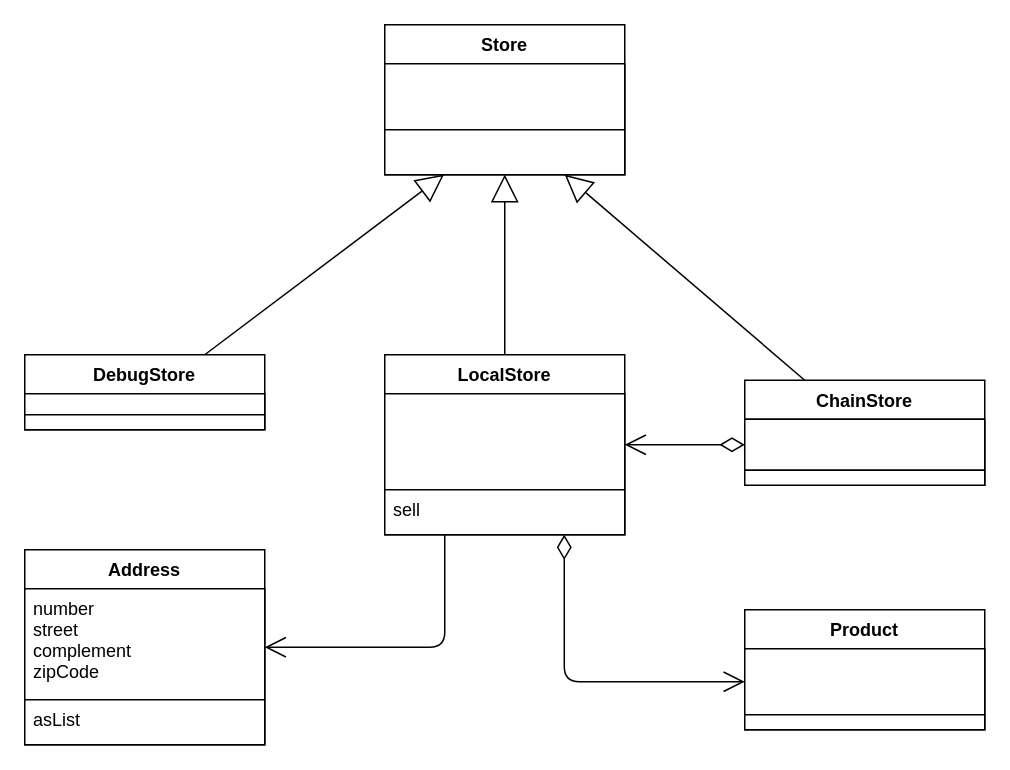
Some shapes in this 1010 by 770 pixel diagram are drawn without their labels. Each missing label, with the centre of its shape:
"address products sales" goes at [504,441].
"code price" goes at [864,681].
"id name" goes at [504,96].
"profit" goes at [504,151].
"stores" goes at [864,444].
